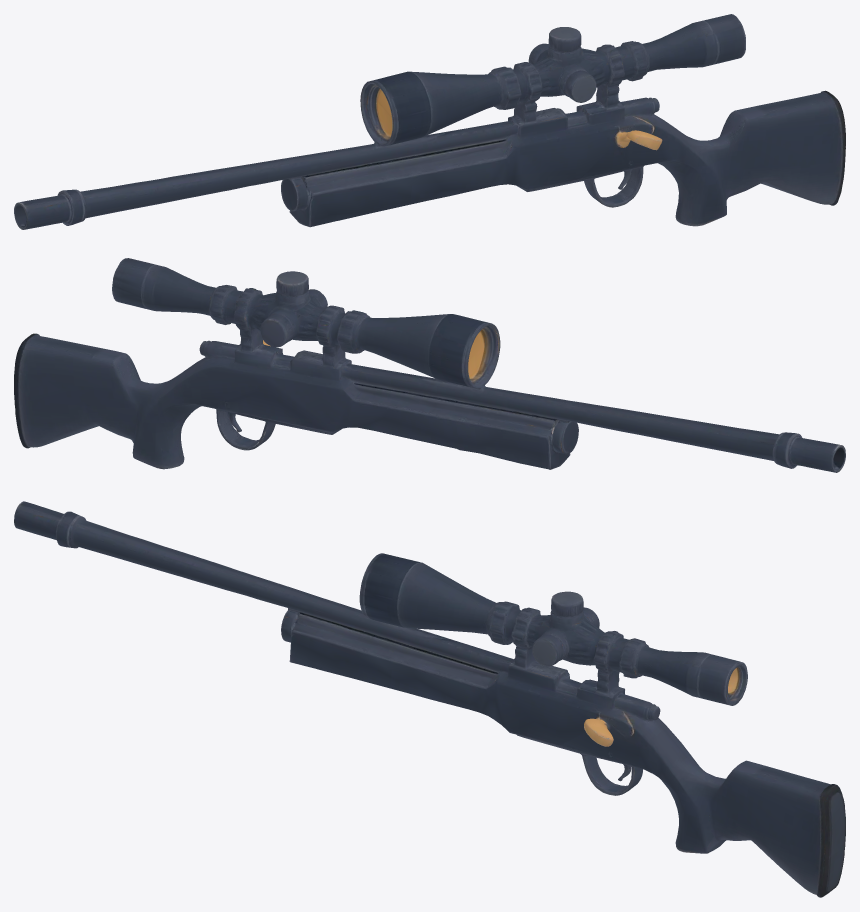
File: sniper.glb
The picture shows the model from 3 angles, top to bottom: view 1: azimuth 30°, elevation 25°; view 2: azimuth 150°, elevation 25°; view 3: azimuth 330°, elevation 25°; orthographic projection.
Visible parts, largest first — view 1: Mesh_0; view 2: Mesh_0; view 3: Mesh_0.
Boxes of the visible parts, bbox=[...] form: Mesh_0: bbox=[14, 14, 845, 229]; Mesh_0: bbox=[14, 258, 845, 472]; Mesh_0: bbox=[14, 501, 845, 897].
Bounding box in the file's own units: 1.9 × 0.5166 × 0.2117.
1 material, 1 textured.
